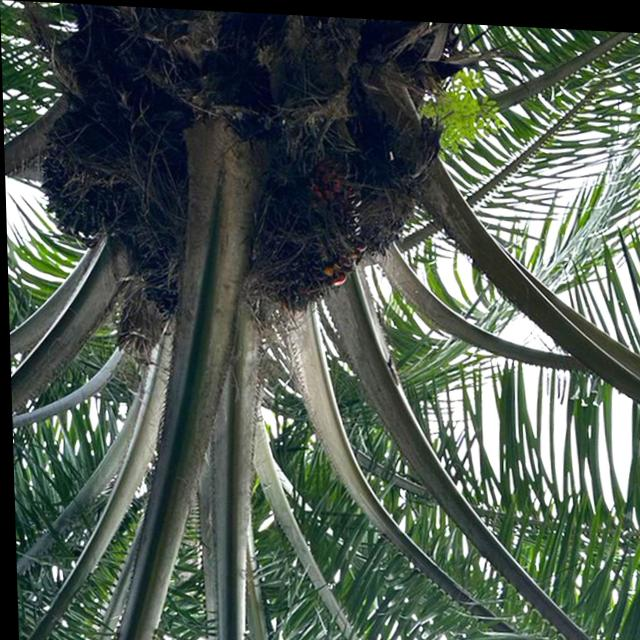ripe: (233, 149, 371, 328)
